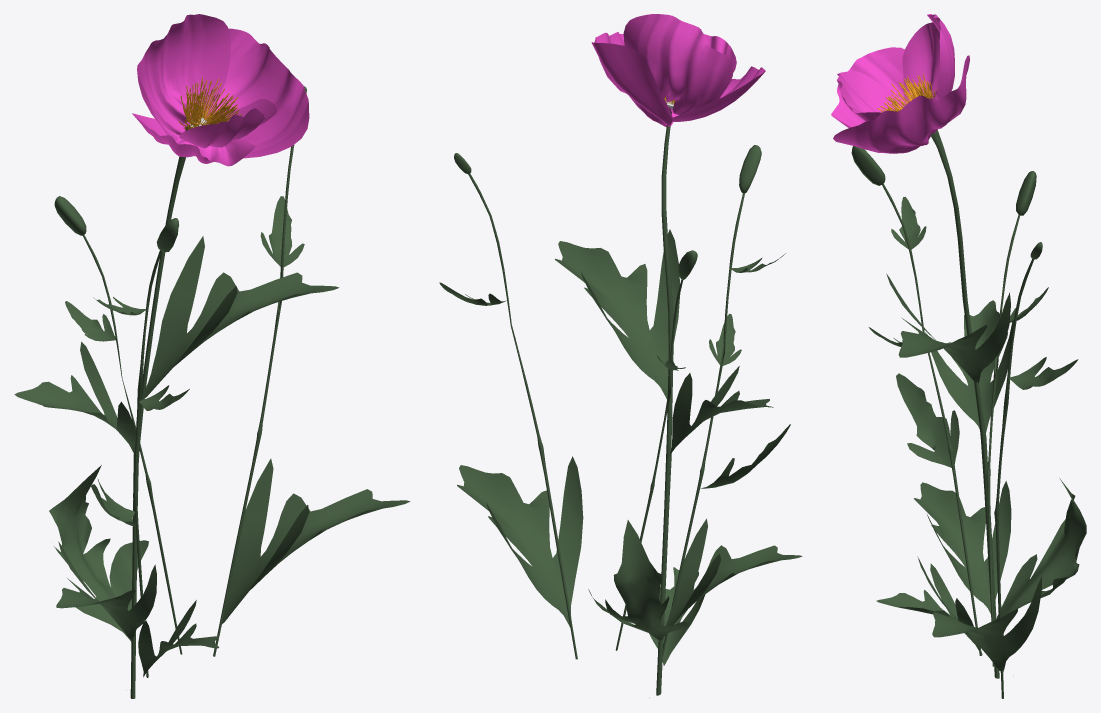
Rendered from orquidea bambu.glb.
3 renders of one model, left to right at view 1: azimuth 30°, elevation 25°; view 2: azimuth 150°, elevation 25°; view 3: azimuth 270°, elevation 25°, orthographic. The views are drawn at different scales.
Parts seen in each view (by area): view 1: GS Red poppy 01.001; view 2: GS Red poppy 01.001; view 3: GS Red poppy 01.001.
Boxes of the visible parts, x1,y1,x2,y2 form: GS Red poppy 01.001: (14,14,410,698); GS Red poppy 01.001: (439,14,802,695); GS Red poppy 01.001: (831,14,1086,698).
Size of the model in its own units: 14.54 by 26.62 by 9.18.
